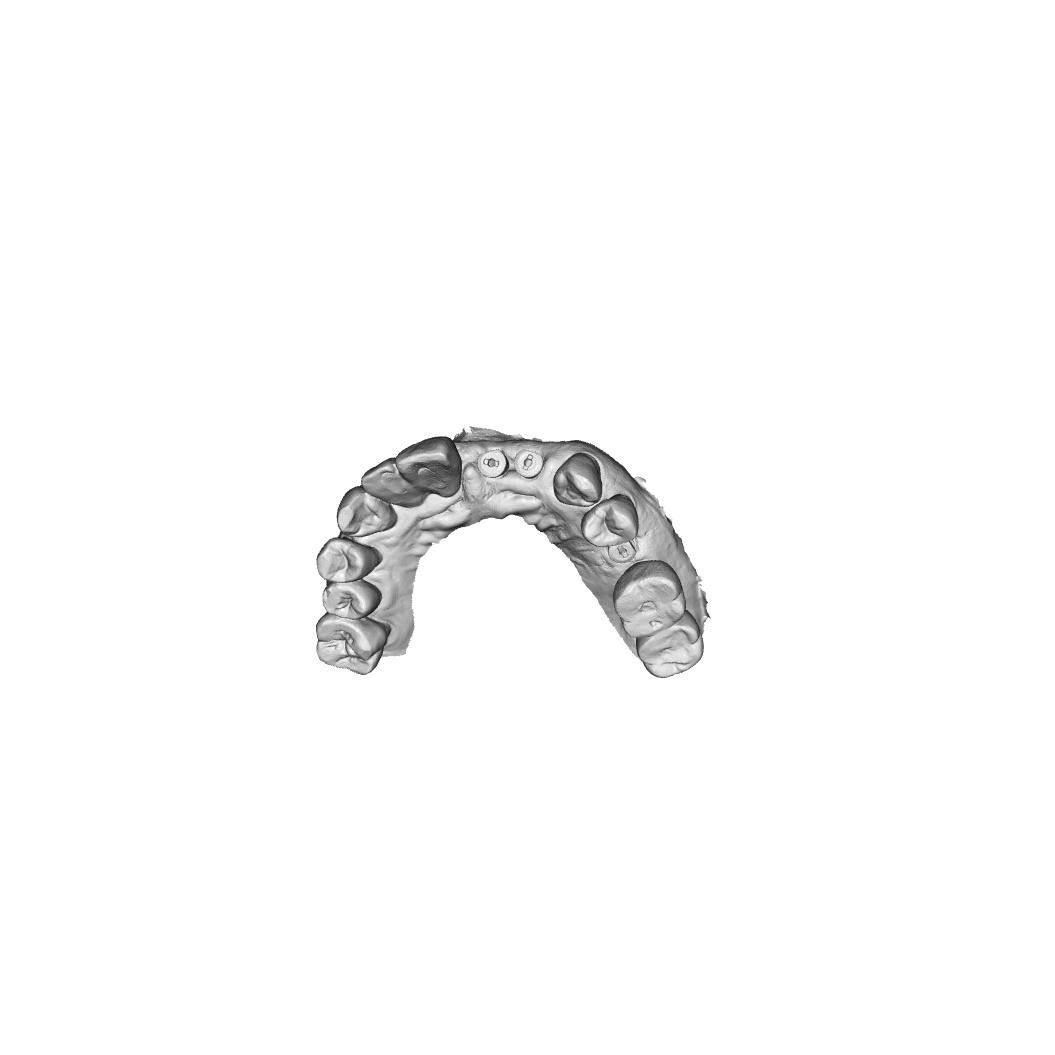canine: (336, 485, 398, 538), (552, 452, 603, 507)
implant_minus: (513, 447, 545, 479), (476, 449, 510, 479), (607, 540, 637, 564)
incisor: (395, 435, 463, 498), (360, 457, 423, 509)
molar: (612, 559, 686, 641), (313, 610, 393, 676), (635, 609, 704, 678)
premolar: (580, 494, 639, 548), (315, 536, 381, 583), (321, 578, 383, 620)
